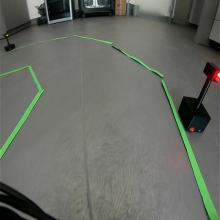red: (202, 61, 220, 83)
